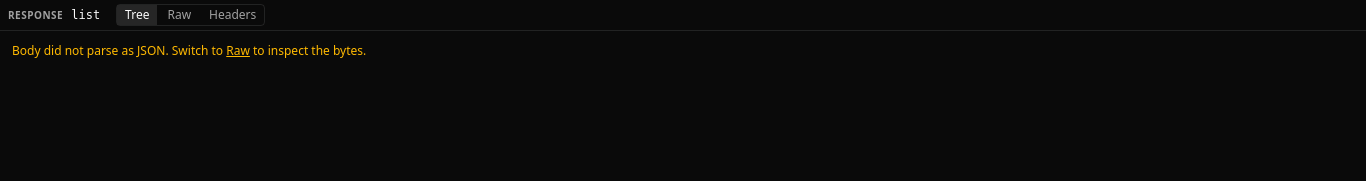
Test case: ResponseColumn — Load full › service rejection renders the error inline and leaves the button
The image size is (1366, 181).
Click the button "Raw" in the row of "list": (179, 15) top-left (159, 5), bottom-right (199, 25)
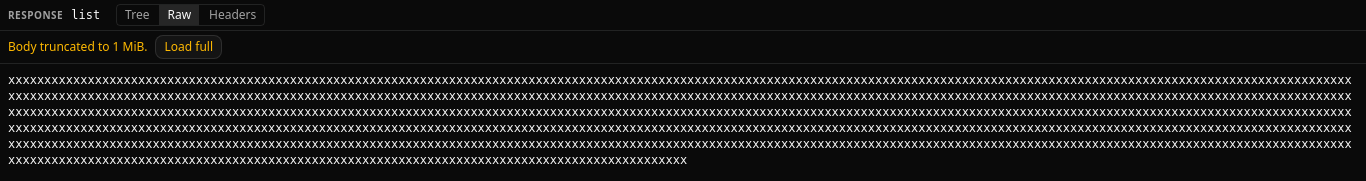
Click the button "Load full": (189, 47) top-left (156, 35), bottom-right (222, 59)
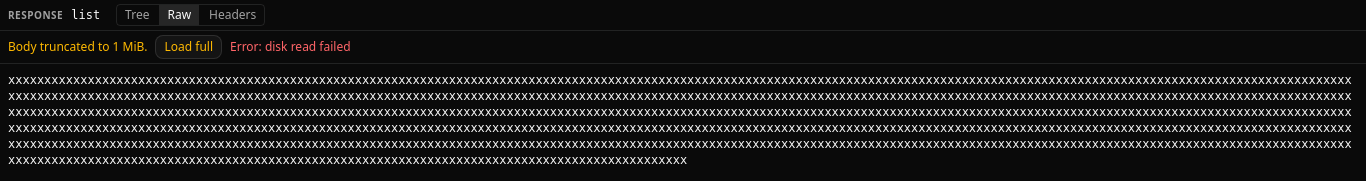
Check: the button "Load full" is shown, box top-left (156, 35), bottom-right (222, 59)
Check: the text "Error: disk read failed" is shown, box top-left (230, 39), bottom-right (351, 55)
